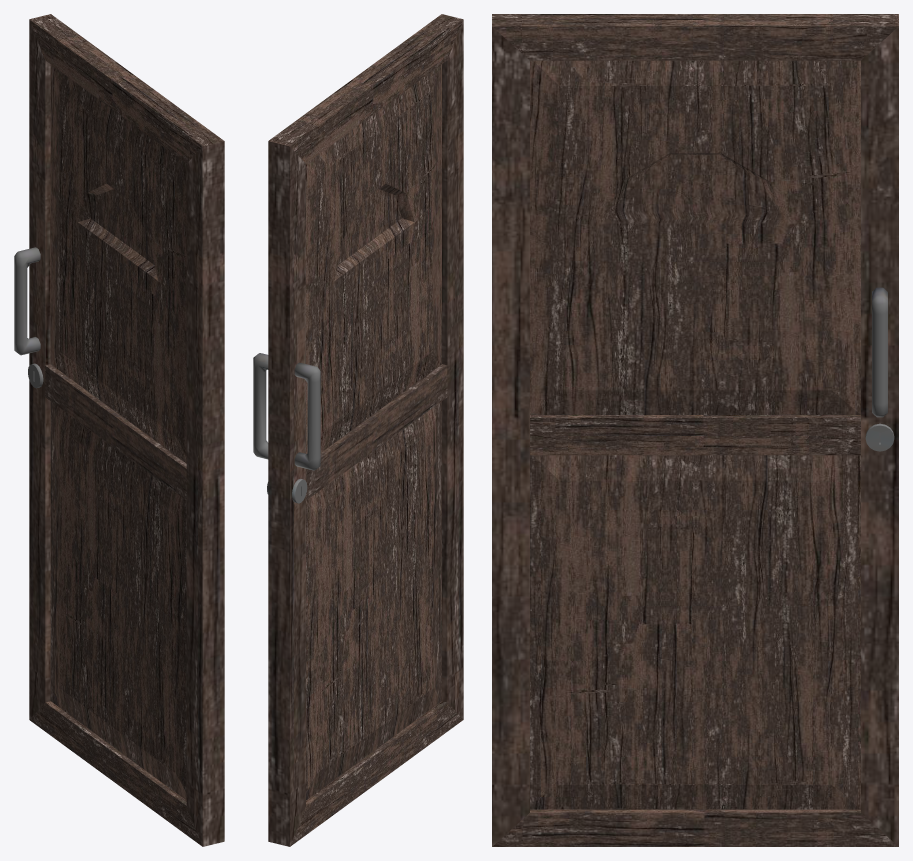
Rendered from door.fbx.
3 renders of one model, left to right at view 1: azimuth 30°, elevation 25°; view 2: azimuth 150°, elevation 25°; view 3: azimuth 270°, elevation 25°, orthographic. The views are drawn at different scales.
Visible parts, largest first — view 1: door; view 2: door; view 3: door.
Part boxes in pixels (left/top/right/bottom): door: left=14, top=14, right=224, bottom=846; door: left=253, top=14, right=463, bottom=846; door: left=492, top=14, right=898, bottom=846.
Bounding box in the file's own units: 9.57 × 99.08 × 44.51.
Materials: 1 (1 with a texture image).
